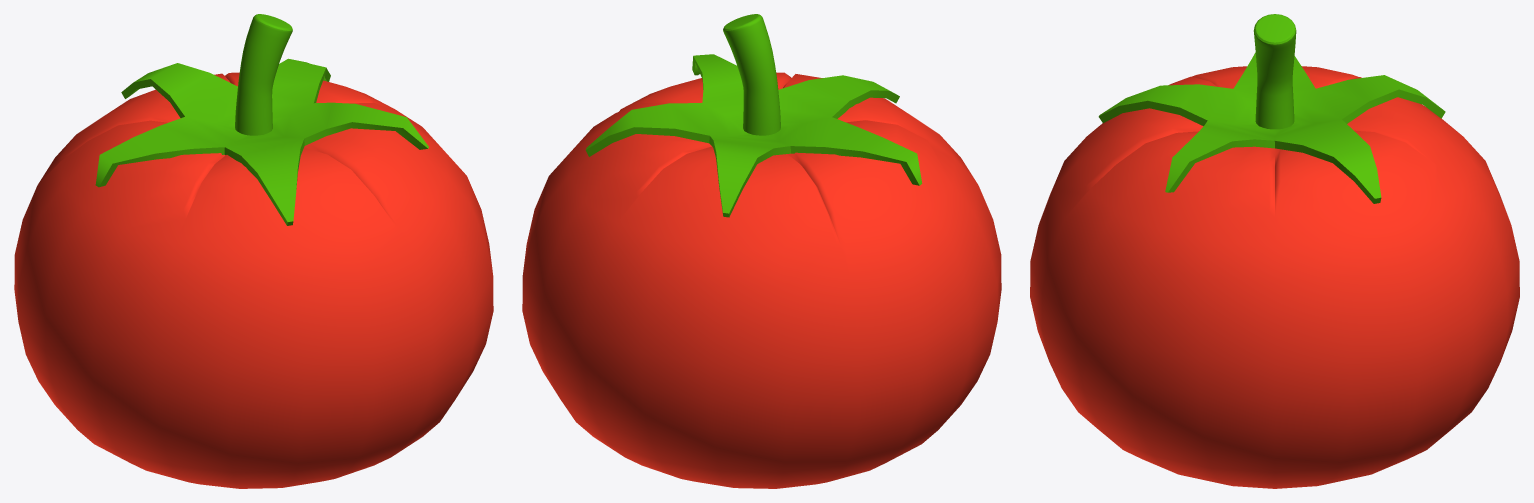
Rendered from tomato.fbx.
3 renders of one model, left to right at view 1: azimuth 30°, elevation 25°; view 2: azimuth 150°, elevation 25°; view 3: azimuth 270°, elevation 25°, orthographic.
Parts seen in each view (by area): view 1: tomato1; view 2: tomato1; view 3: tomato1.
Boxes of the visible parts, <box> form: tomato1: <box>14,14,493,488</box>; tomato1: <box>522,14,1001,488</box>; tomato1: <box>1030,14,1519,488</box>.
Size of the model in its own units: 20.85 by 20.53 by 20.85.
